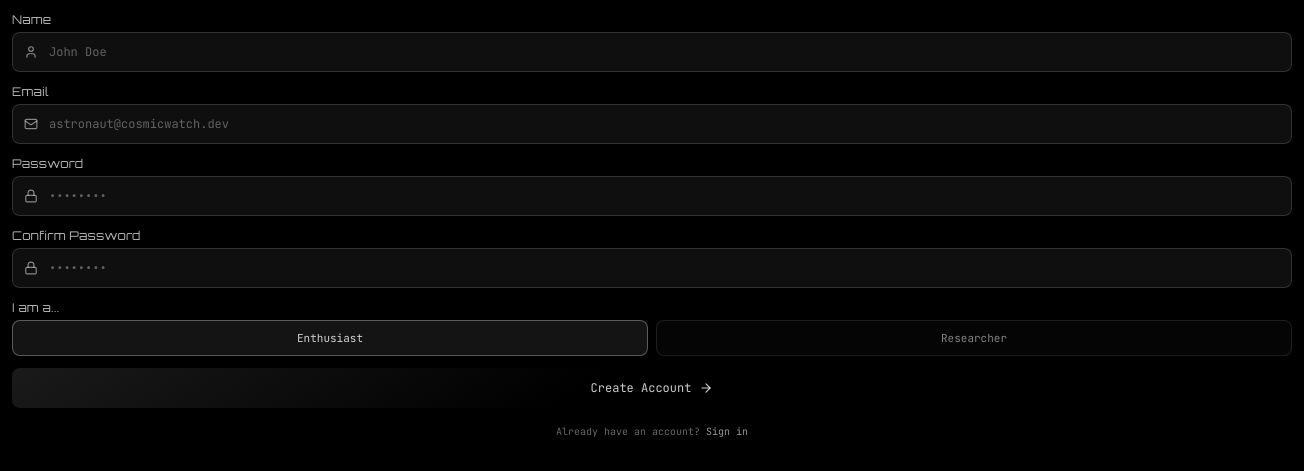
Test: SignupForm › validates password mismatch
This screenshot has width=1304, height=471.
Type "Test User" into the field labelled "Name" at (652,52), box [12, 32, 1292, 72]
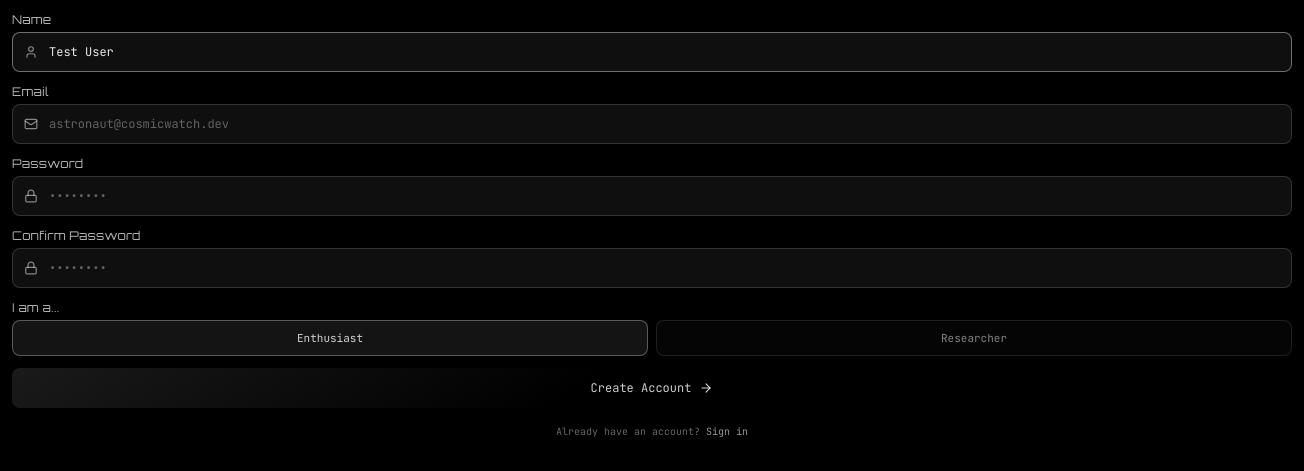
Type "test@example.com" into the field labelled "Email" at (652,124), box [12, 104, 1292, 144]
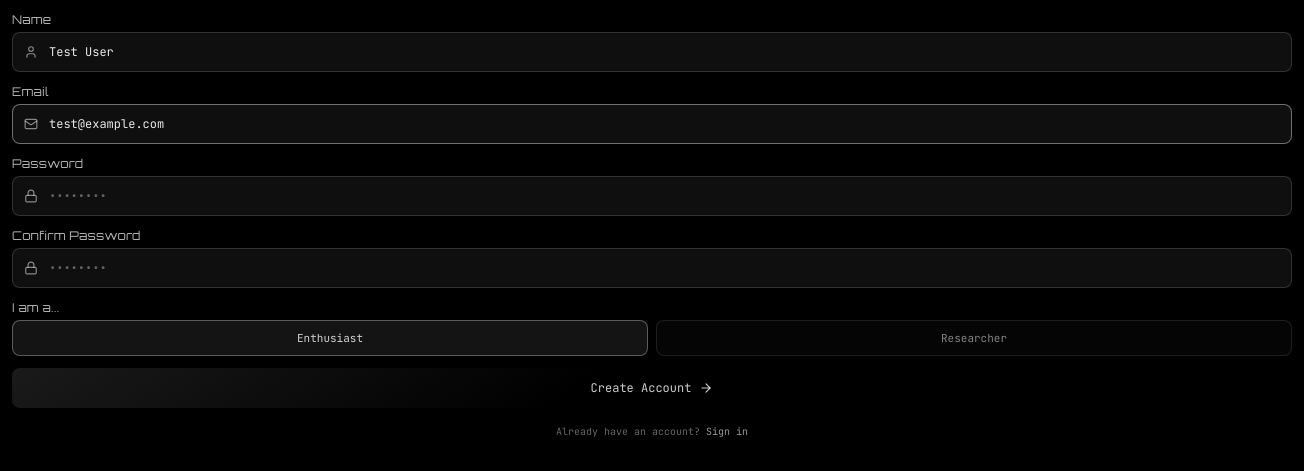
Type "Password123" into the password field labelled "Password" at (652,196), box [12, 176, 1292, 216]
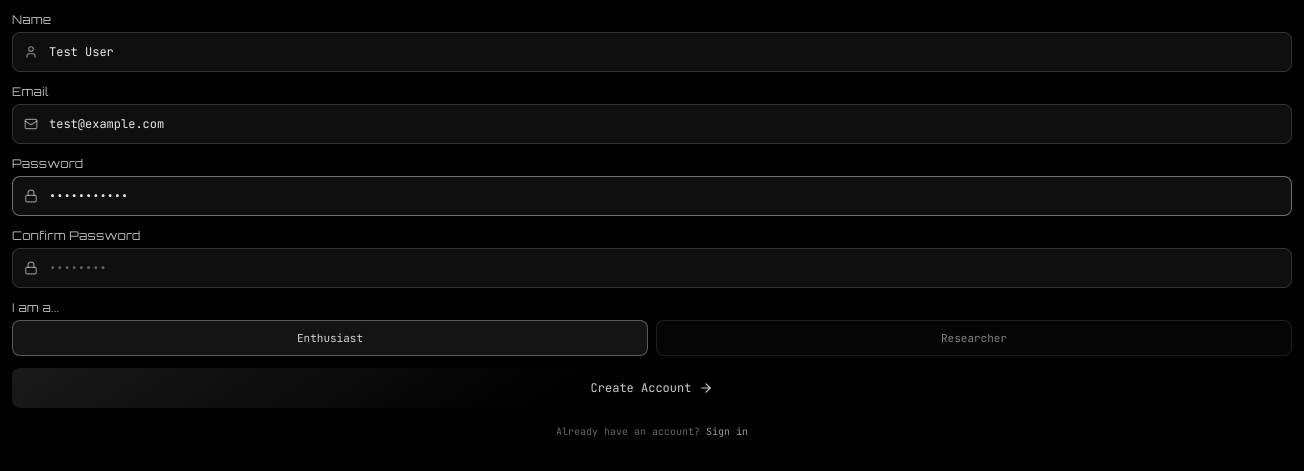
Type "Mismatch" into the password field labelled "Confirm Password" at (652,268), box [12, 248, 1292, 288]
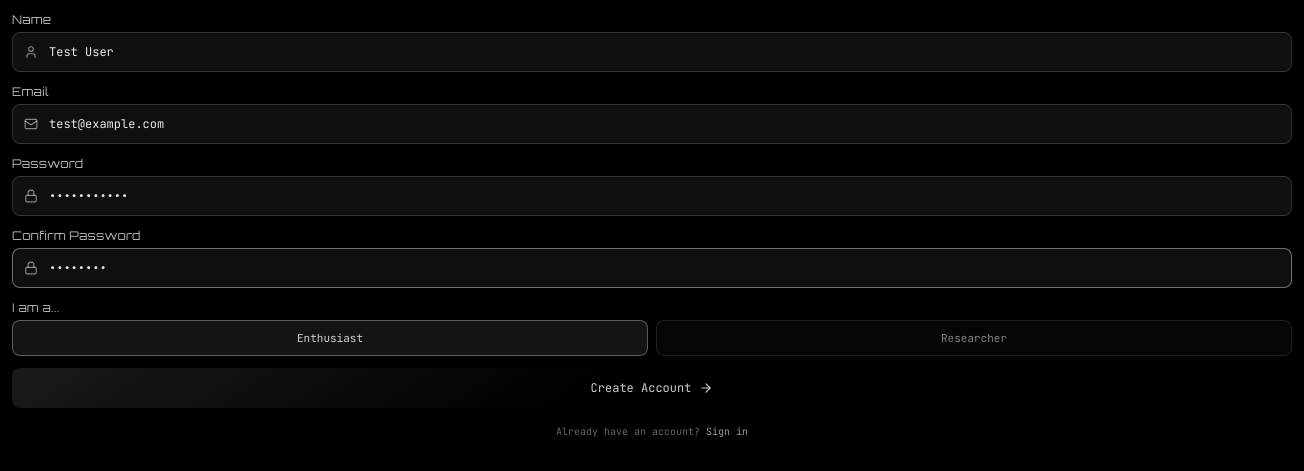
Click the button "Create Account" at (652,388), box [12, 368, 1292, 408]
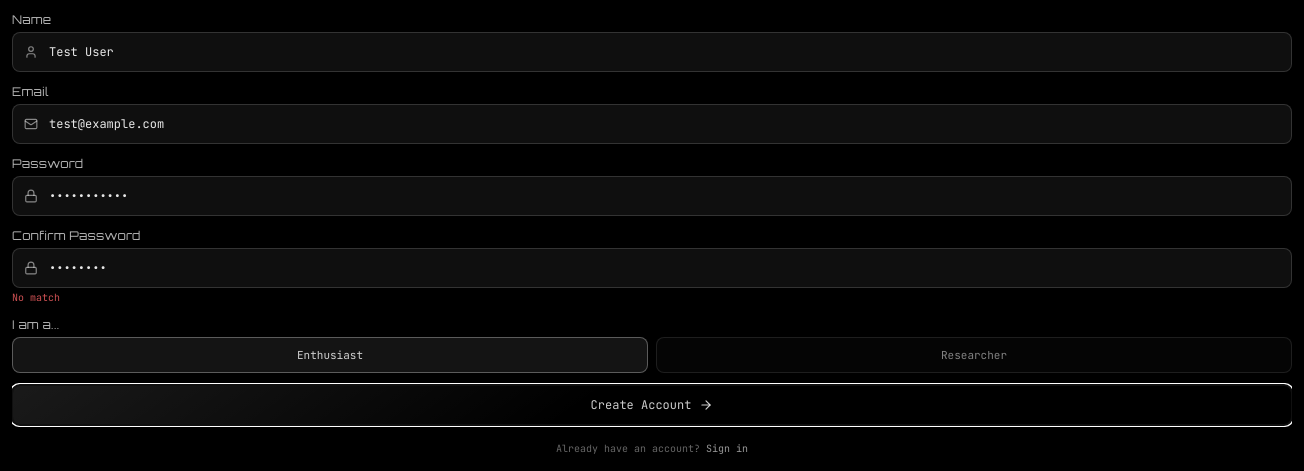
Expected: the text "No match" is shown, [12, 291, 60, 304]
